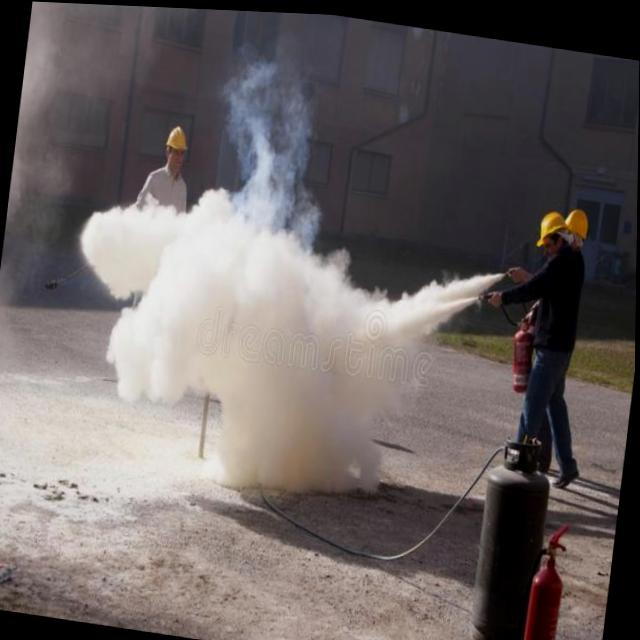FireExtinguisher: (507, 503, 579, 640), (462, 277, 542, 397)
